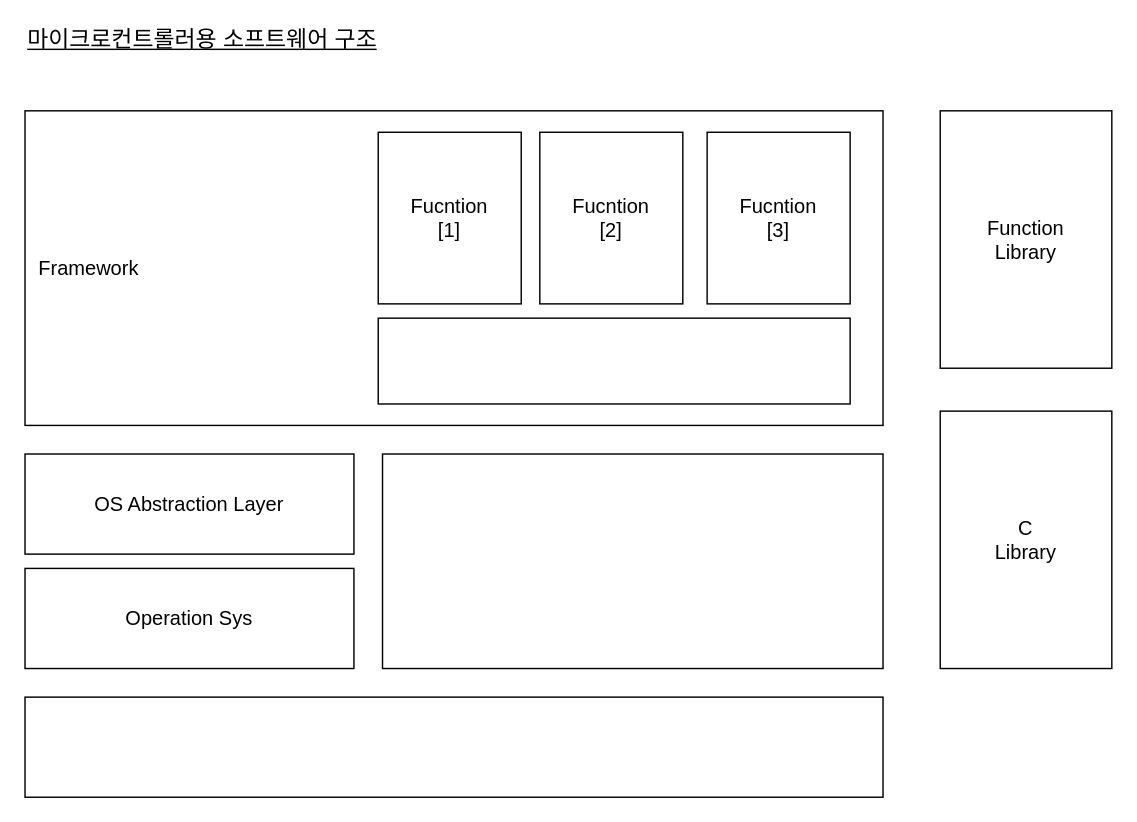
This 1137x822 diagram has some shape labels left out. Here are the shapes that lost their labels. From the top down, the centre of each, then its label:
At point 613,360: "Physical Layer".
At point 632,561: "Hardware Abstraction Layer".
At point 453,746: "Microcontroller Hardware".
